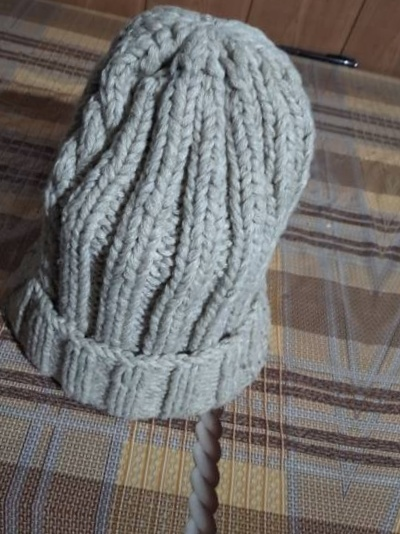Hat: (0, 0, 364, 447)
